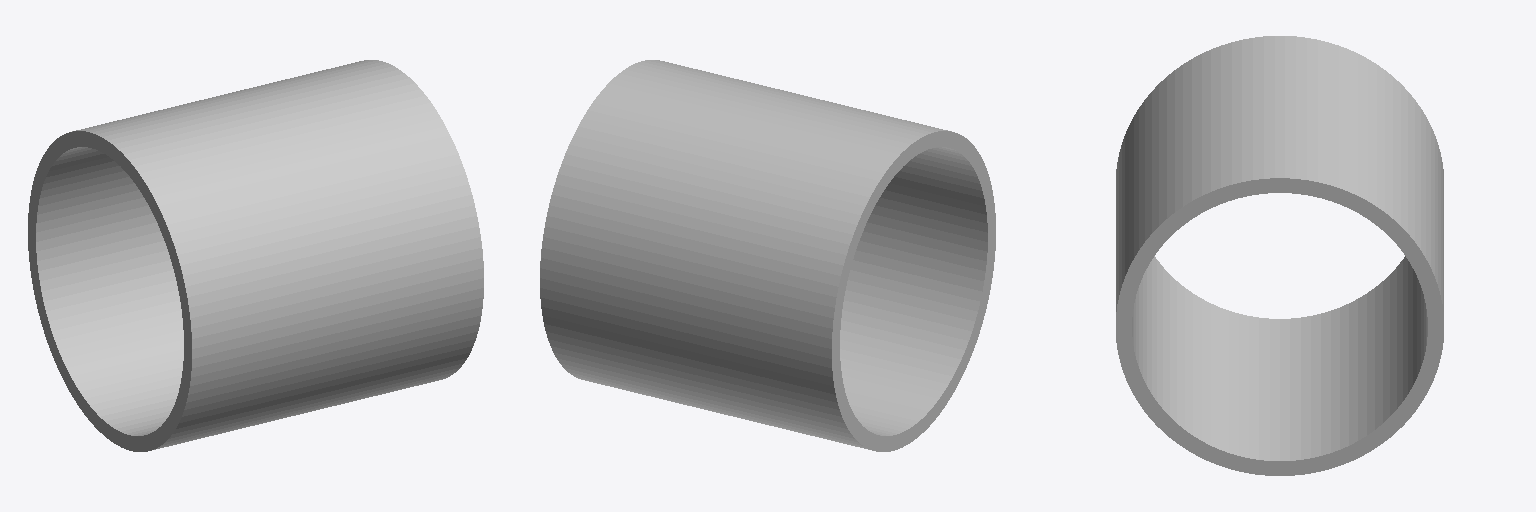
Rendered from CameraHull.obj.
3 views of the same model, side by side, from view 1: azimuth 30°, elevation 25°; view 2: azimuth 150°, elevation 25°; view 3: azimuth 270°, elevation 25° (orthographic).
Parts seen in each view (by area): view 1: CameraHull_Camera_Hull_v4; view 2: CameraHull_Camera_Hull_v4; view 3: CameraHull_Camera_Hull_v4.
Part boxes in pixels (left/top/right/bottom): CameraHull_Camera_Hull_v4: left=28, top=60, right=483, bottom=451; CameraHull_Camera_Hull_v4: left=540, top=60, right=995, bottom=451; CameraHull_Camera_Hull_v4: left=1116, top=36, right=1443, bottom=475.
Bounding box in the file's own units: 0.041 × 0.04 × 0.04.